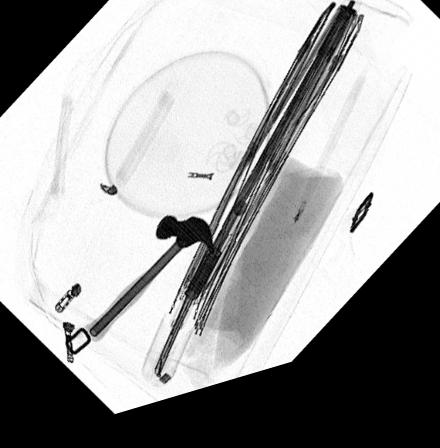Hammer: (85, 225, 214, 349)
